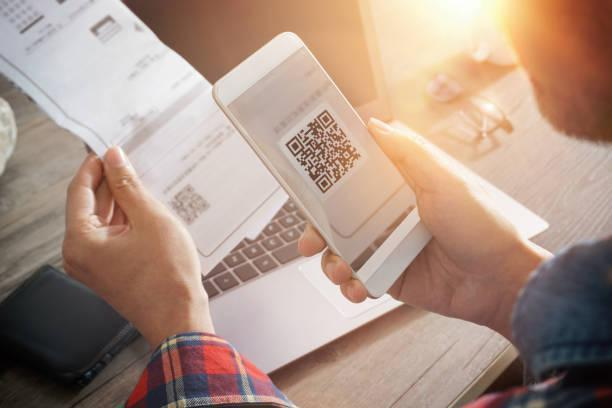Finder pattern: (283, 134, 307, 155), (314, 170, 335, 194), (315, 108, 336, 129), (182, 214, 196, 225), (183, 184, 196, 194), (199, 200, 211, 210)
